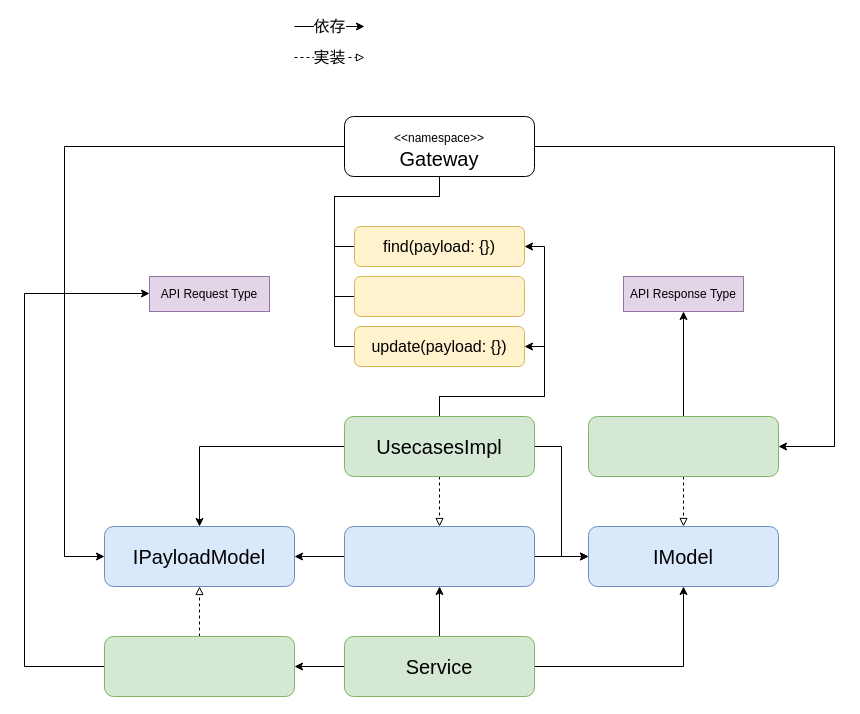
The diagram is 860 pixels wide and 714 high, and some of its shapes have lost their labels. Each missing label, with the centre of its shape:
"create(paylaod: {})" belongs at (439,296).
"IUsecases" belongs at (439,556).
"ModelImpl" belongs at (683,446).
"PayloadModelImpl" belongs at (199,666).
